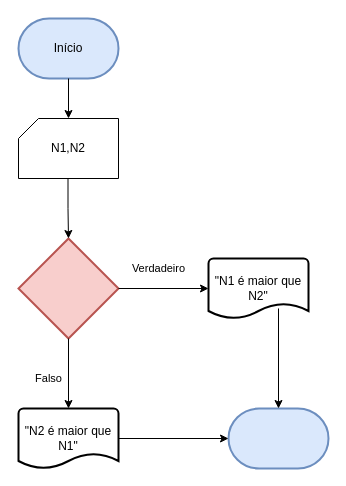
Some shapes in this 346 by 486 pixel diagram are drawn without their labels. The centre of each missing label's shape, as x and y in pixels:
"Fim" belongs at [278,438].
"Valor = N1>N2" belongs at [68,288].
